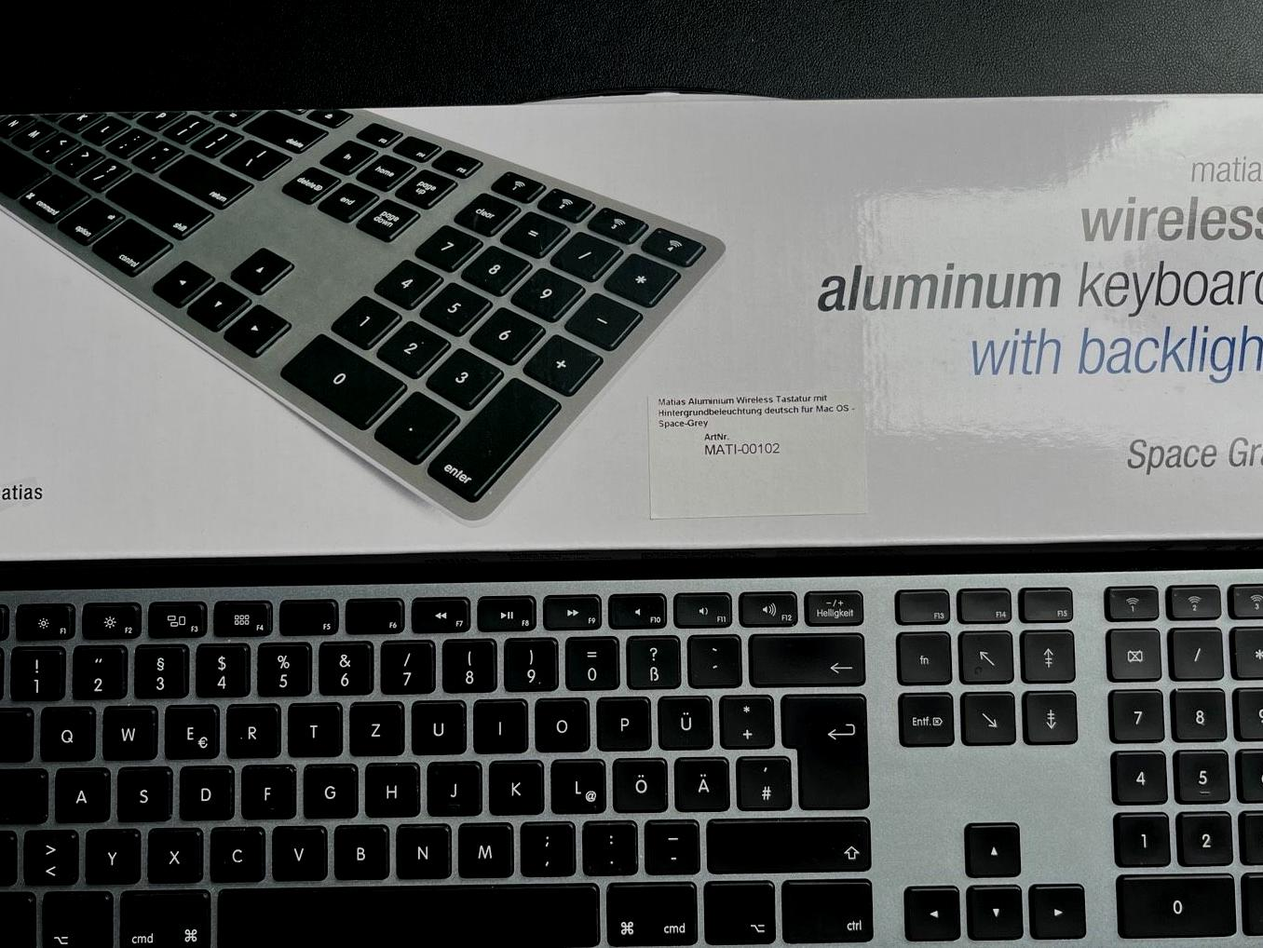0: (563, 632, 618, 687)
1: (7, 643, 61, 698)
2: (69, 642, 125, 697)
3: (131, 641, 186, 697)
4: (193, 639, 247, 694)
5: (254, 639, 309, 694)
6: (316, 637, 371, 692)
7: (377, 636, 432, 691)
8: (440, 634, 495, 690)
9: (501, 634, 556, 689)
a: (51, 765, 106, 820)
accent: (685, 630, 738, 684)
ae: (672, 752, 727, 809)
alt-left: (39, 888, 111, 948)
altgr-right: (701, 879, 779, 946)
b: (330, 820, 387, 877)
c: (207, 822, 263, 880)
caret: (1, 644, 27, 698)
comma: (517, 817, 572, 874)
d: (176, 762, 231, 819)
del: (746, 629, 862, 684)
e: (161, 700, 215, 756)
enter: (778, 689, 866, 808)
f: (238, 761, 292, 816)
g: (300, 761, 354, 816)
h: (362, 758, 417, 815)
hash: (734, 752, 789, 808)
i: (470, 695, 525, 751)
j: (425, 757, 479, 814)
k: (486, 754, 541, 813)
keyboard: (1, 542, 1263, 948), (1, 108, 727, 527)
l: (549, 754, 604, 811)
less: (20, 825, 75, 883)
m: (455, 819, 510, 876)
minus: (642, 816, 698, 872)
n: (392, 820, 449, 877)
o: (532, 694, 587, 750)
oe: (610, 753, 666, 810)
p: (594, 692, 649, 748)
plus: (717, 690, 771, 746)
point: (580, 817, 636, 872)
q: (36, 702, 92, 760)
r: (223, 700, 278, 756)
s: (114, 764, 169, 819)
shift-left: (1, 827, 35, 885)
shift-lock: (1, 765, 51, 823)
shift-right: (704, 814, 868, 870)
space: (211, 881, 597, 948)
ss: (623, 631, 679, 686)
strg-left: (1, 889, 48, 948)
strg-right: (779, 875, 876, 942)
t: (284, 697, 339, 754)
tab: (1, 705, 43, 762)
u: (408, 697, 464, 753)
ue: (655, 691, 710, 747)
v: (268, 821, 325, 878)
w: (99, 701, 154, 758)
x: (144, 824, 200, 881)
y: (82, 825, 138, 882)
z: (346, 697, 402, 753)
